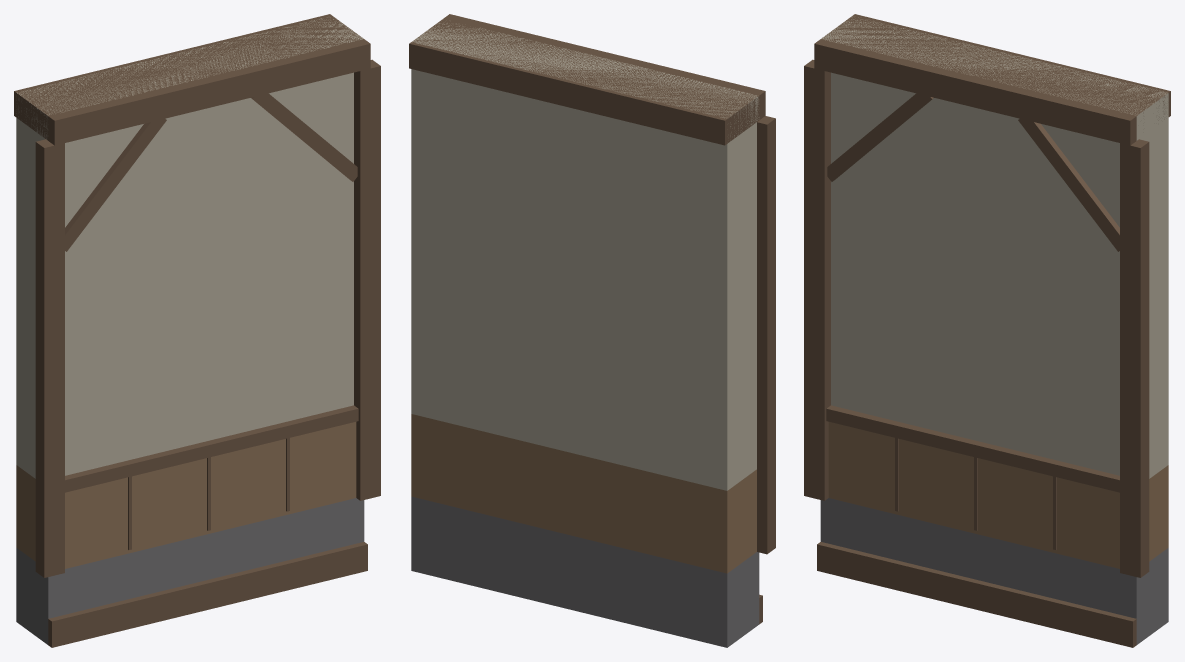
The model's file is hall_wall.glb.
3 views of the same model, side by side, from view 1: azimuth 30°, elevation 25°; view 2: azimuth 150°, elevation 25°; view 3: azimuth 330°, elevation 25° (orthographic).
Parts seen in each view (by area): view 1: Upper, Plinth; view 2: Upper, Plinth; view 3: Upper, Plinth.
Part boxes in pixels (bbox=[...]): Upper: bbox=[14, 14, 380, 577]; Plinth: bbox=[16, 498, 367, 647]; Upper: bbox=[409, 14, 775, 573]; Plinth: bbox=[411, 496, 762, 647]; Upper: bbox=[804, 14, 1170, 577]; Plinth: bbox=[817, 498, 1168, 647].
Size of the model in its own units: 4.26 by 6.4 by 0.89.
